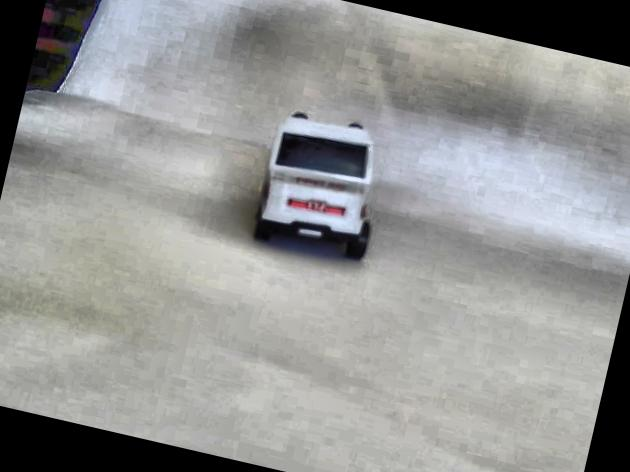ambulance: (249, 104, 394, 264)
